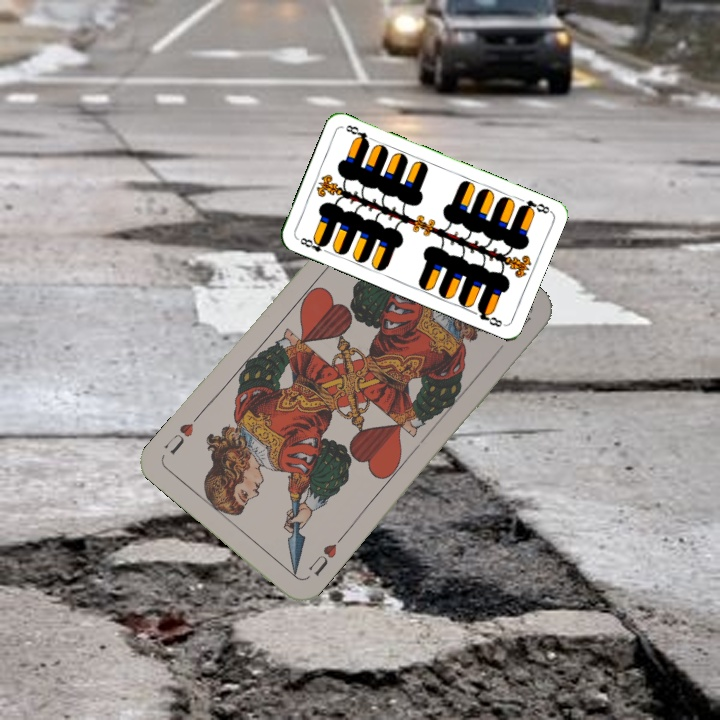E8: (294, 234, 332, 256), (515, 196, 553, 216)
HU: (304, 532, 346, 579)
